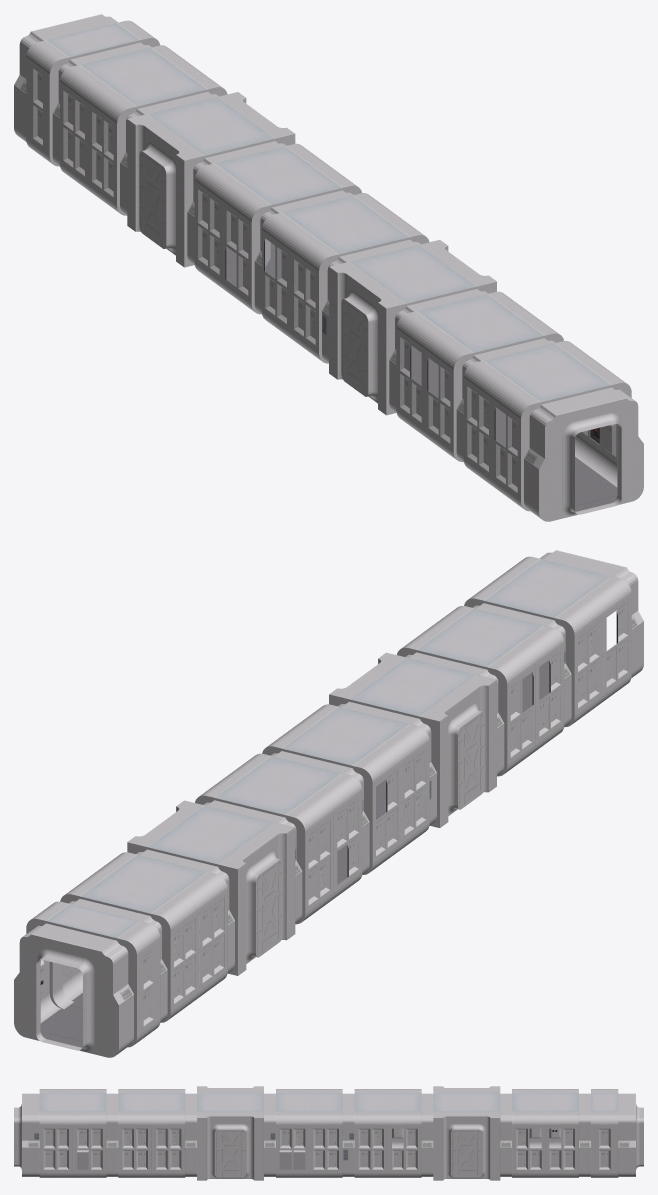
Rendered from thm_spc_corvette_dungeon_r52_hall52_mesh_r52.fbx.
3 renders of one model, top to bottom at view 1: azimuth 30°, elevation 25°; view 2: azimuth 150°, elevation 25°; view 3: azimuth 270°, elevation 25°, orthographic. The views are drawn at different scales.
Parts seen in each view (by area): view 1: mesh_node; view 2: mesh_node; view 3: mesh_node.
Part boxes in pixels (x1,y1,x2,y2): mesh_node: (14, 14, 643, 521); mesh_node: (14, 550, 643, 1057); mesh_node: (14, 1086, 643, 1180).
Size of the model in its own units: 4 by 3.5 by 32.
